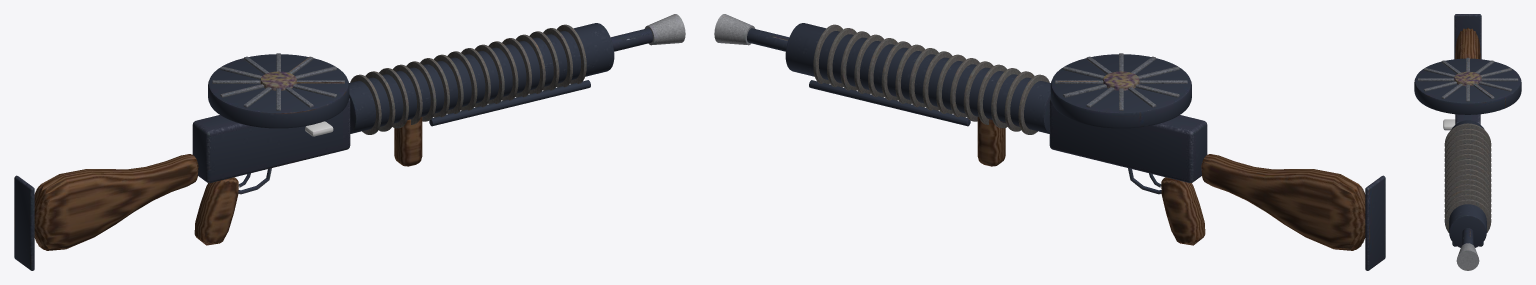
The model's file is chatter.glb.
3 renders of one model, left to right at view 1: azimuth 30°, elevation 25°; view 2: azimuth 150°, elevation 25°; view 3: azimuth 270°, elevation 25°, orthographic. The views are drawn at different scales.
Parts seen in each view (by area): view 1: shroud, stock, receiver, pan, pistol_grip, stock_plate, bipod-1, fore_grip, flash_hider, barrel, pan_hub, fin0 (+15 smaller); view 2: shroud, stock, receiver, pan, pistol_grip, stock_plate, bipod1, fore_grip, flash_hider, barrel, pan_hub, fin0 (+15 smaller); view 3: pan, shroud, stock, stock_plate, flash_hider, fin15, pan_hub, fin14, fin0, fin1, fin6, fin4 (+23 smaller).
Part boxes in pixels (x1,y1,x2,y2): shroud: (349,23,614,133); stock: (34,154,198,250); receiver: (192,98,350,182); pan: (208,54,349,128); pistol_grip: (194,177,238,245); stock_plate: (14,175,34,270); bipod-1: (429,80,590,126); fore_grip: (394,116,422,166); flash_hider: (644,14,685,45); barrel: (610,28,652,51); pan_hub: (260,71,296,90); fin0: (350,74,381,134); shroud: (785,23,1050,133); stock: (1201,154,1365,250); receiver: (1049,98,1207,182); pan: (1050,54,1191,128); pistol_grip: (1161,177,1205,245); stock_plate: (1365,175,1385,270); bipod1: (809,80,970,126); fore_grip: (977,116,1005,166); flash_hider: (714,14,755,45); barrel: (747,28,789,51); pan_hub: (1103,71,1139,90); fin0: (1018,74,1049,134); pan: (1414,58,1521,114); shroud: (1449,120,1486,247); stock: (1455,28,1480,59); stock_plate: (1454,14,1481,59); flash_hider: (1456,243,1479,270); fin15: (1444,199,1491,232); pan_hub: (1454,71,1481,86); fin14: (1444,194,1491,217); fin0: (1444,123,1491,146); fin1: (1444,128,1491,151); fin6: (1444,153,1491,176); fin4: (1444,143,1491,166).
Size of the model in its own units: 0.911 by 0.1985 by 0.17.
Materials: 1 (1 with a texture image).
